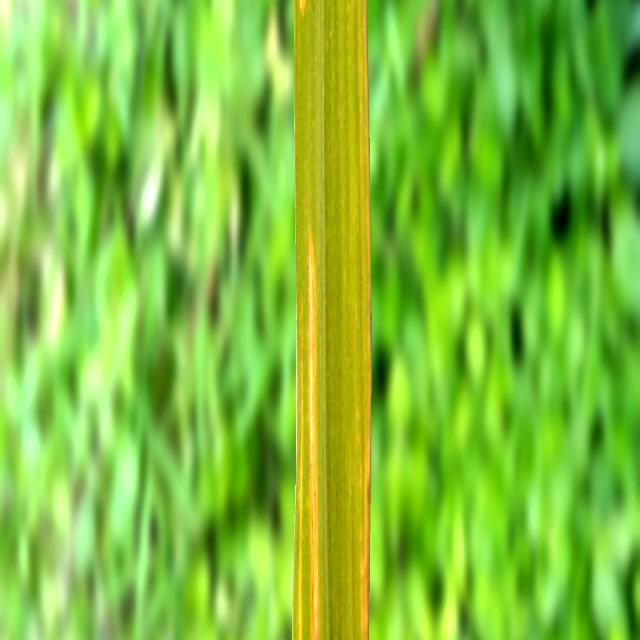BLS: (309, 232, 319, 640), (298, 289, 304, 640), (299, 0, 305, 13)
